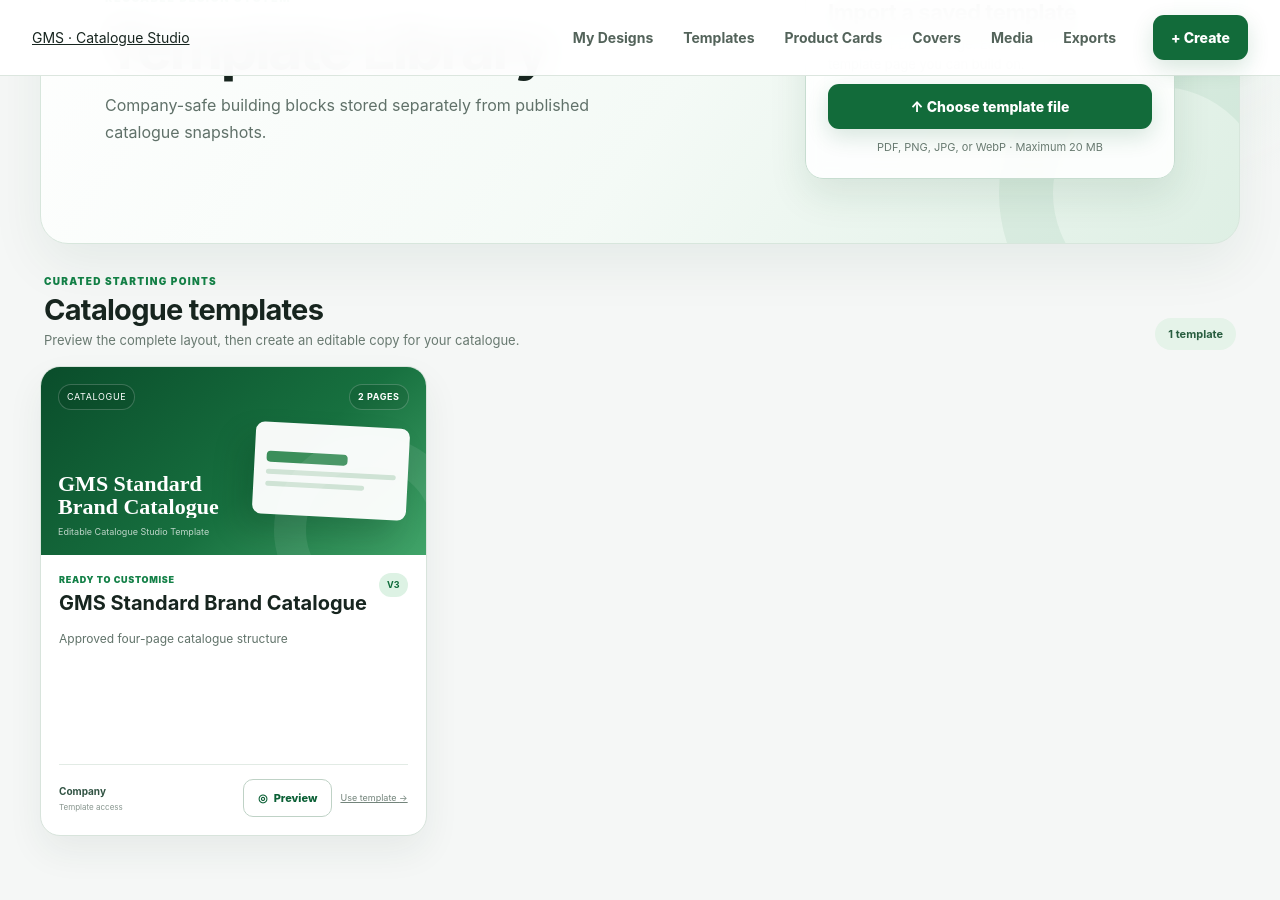
Test case: Studio template library › previews saved template pages without creating a catalogue
The image size is (1280, 900).
(page scrolled)
Click the button "◎ Preview": (288, 798) [243,779,332,817]
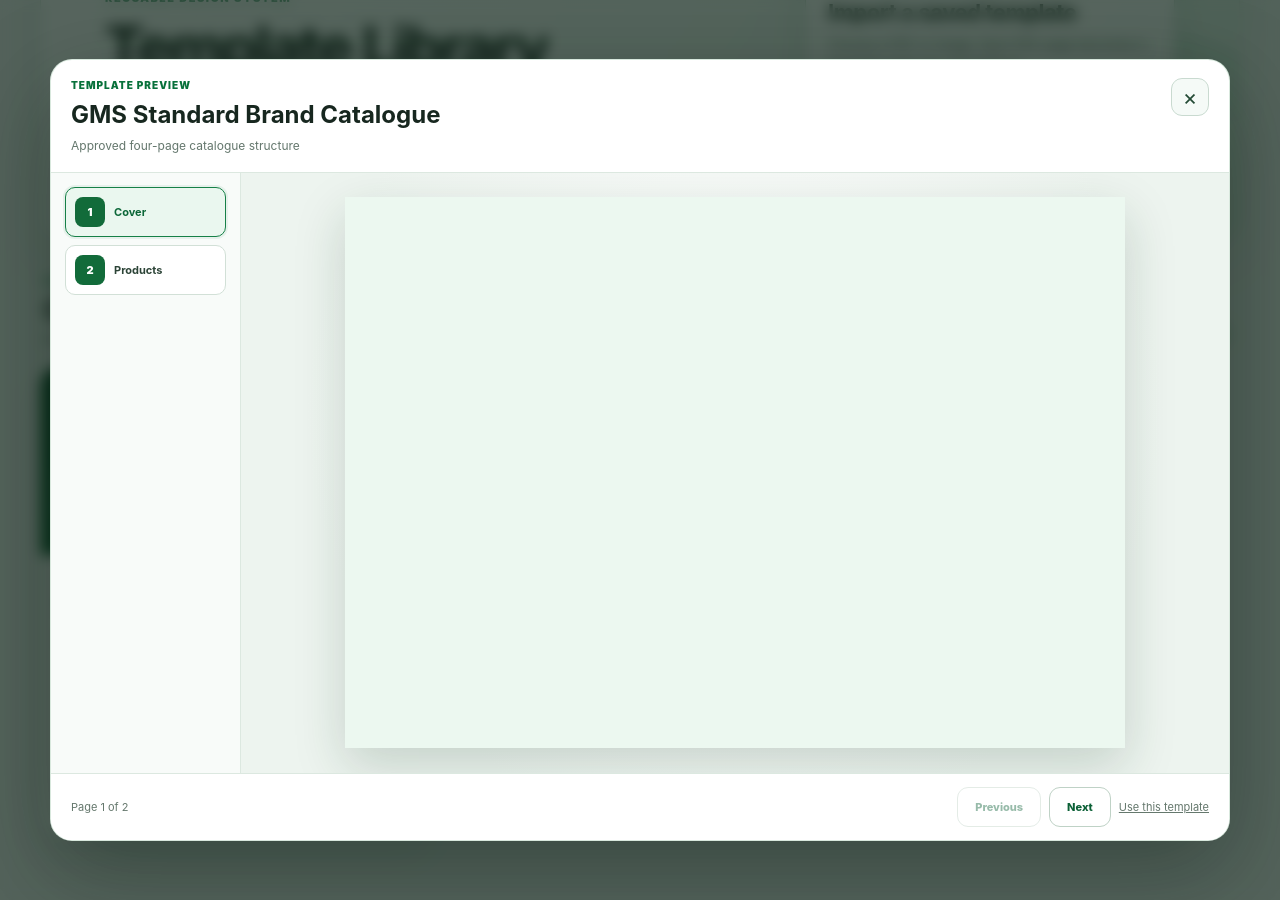
Now the text "Page 1 of 2" is shown, box [71,799,128,815]
Click the button "2 Products": (146, 270) [65,245,226,295]
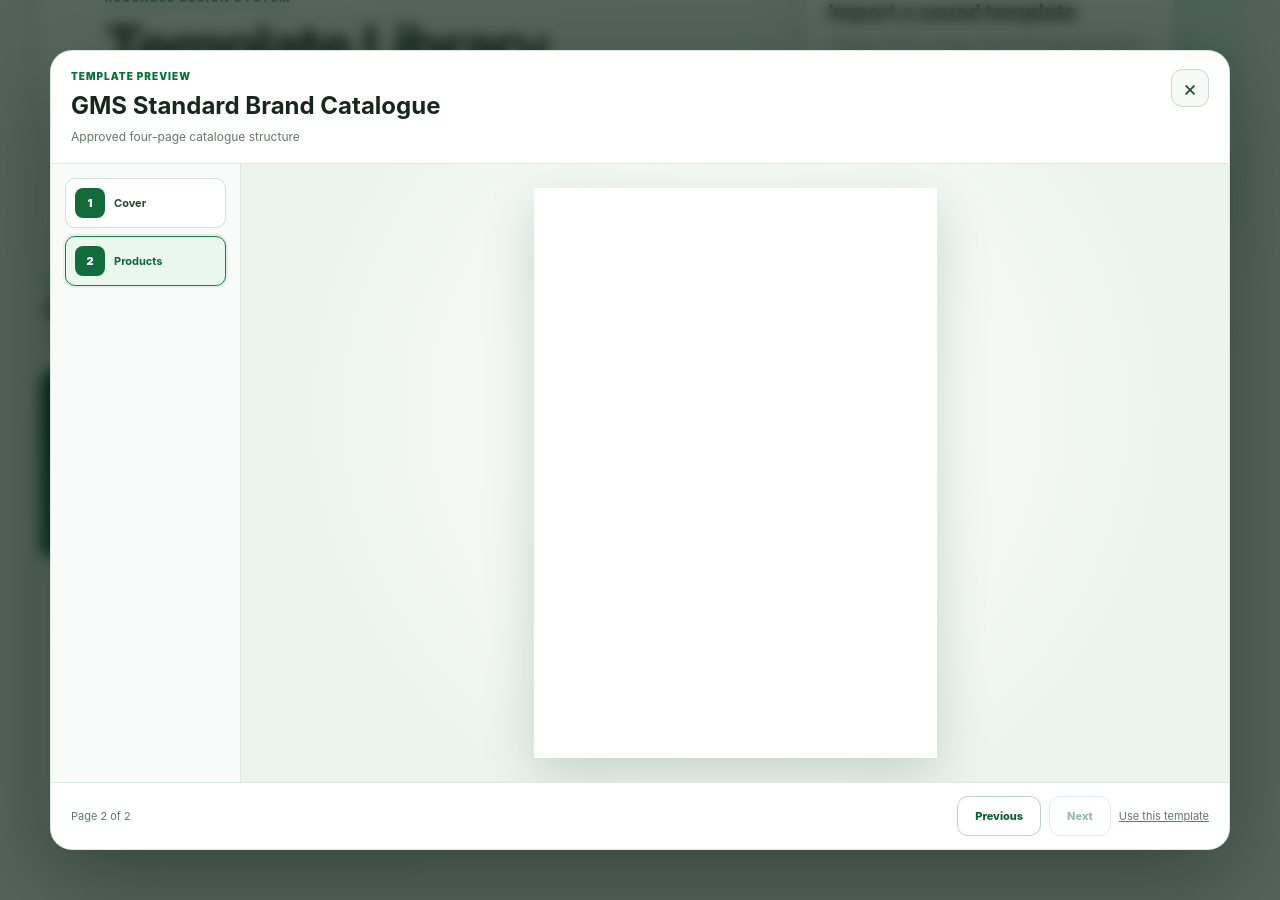
Now the text "Page 2 of 2" is shown, box [71,808,131,824]
Click the button named "Close template preview": (1190, 88) [1171,68,1209,106]
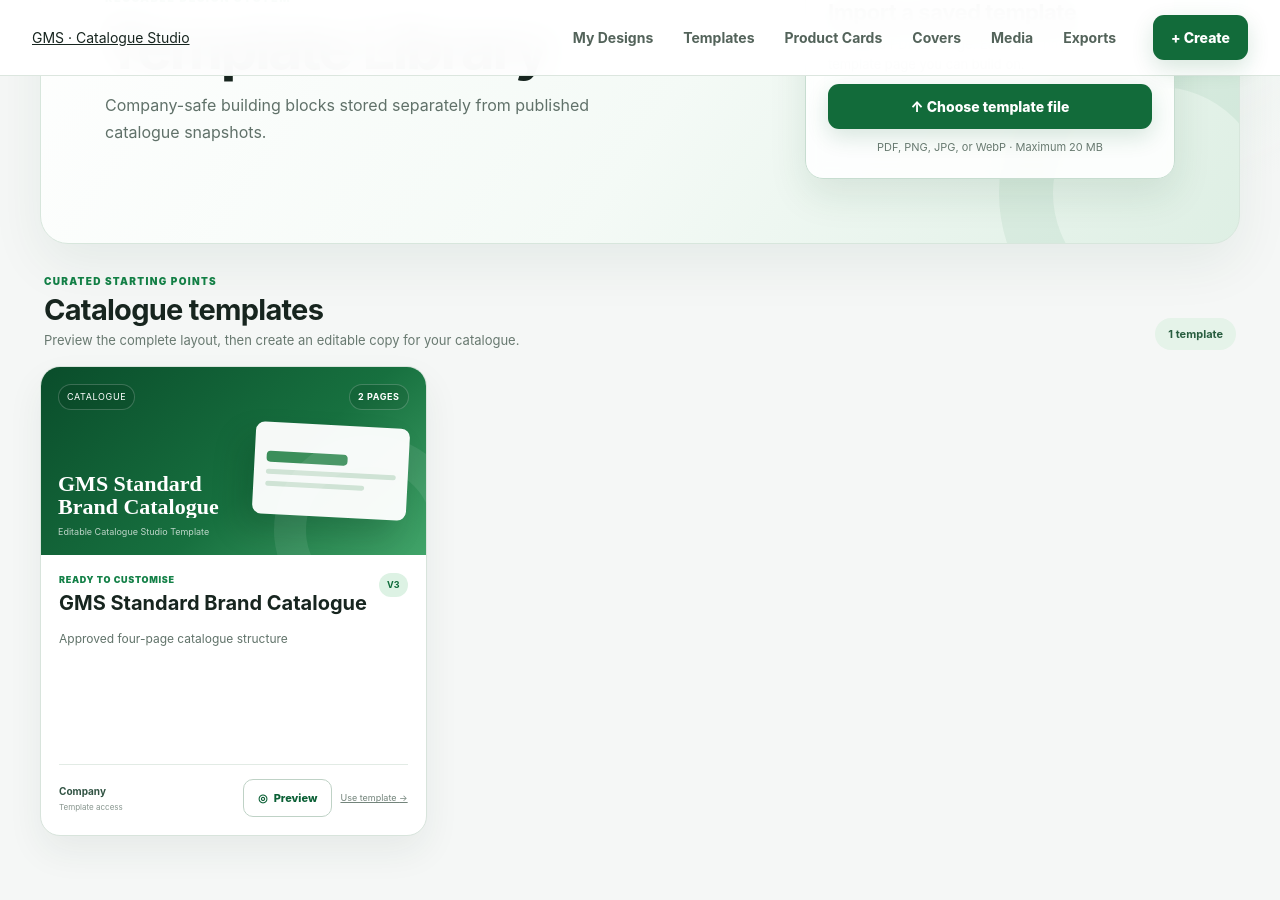
Now the dialog is gone
